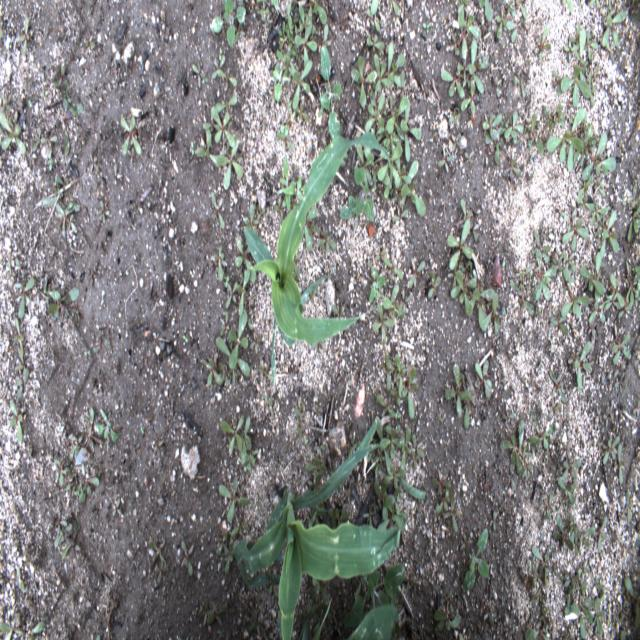crop: (234, 416, 400, 638), (244, 134, 392, 342), (314, 595, 396, 639)
weed: (343, 566, 405, 630), (318, 43, 343, 145), (572, 124, 619, 176), (340, 162, 376, 222), (546, 110, 586, 163), (461, 531, 490, 594), (210, 0, 245, 47), (214, 333, 252, 376), (218, 474, 250, 522), (446, 363, 474, 417), (559, 65, 593, 109), (351, 53, 378, 108), (400, 98, 422, 162), (594, 211, 620, 265), (227, 306, 249, 368), (445, 220, 471, 272), (450, 268, 479, 314), (601, 1, 627, 51), (216, 140, 243, 188), (294, 11, 317, 65), (374, 414, 394, 476), (118, 112, 144, 159), (457, 15, 483, 60), (571, 339, 592, 394), (571, 587, 593, 639), (290, 59, 313, 108), (196, 124, 224, 164), (502, 431, 526, 477), (621, 576, 640, 630), (377, 142, 402, 182), (560, 217, 590, 250), (532, 262, 558, 300), (384, 41, 406, 85), (1, 112, 26, 150), (373, 478, 395, 521), (472, 289, 494, 331), (385, 94, 409, 132), (399, 181, 425, 216), (432, 607, 461, 638), (579, 264, 605, 298), (46, 290, 77, 318), (609, 332, 633, 368), (212, 106, 234, 145), (394, 160, 420, 193), (80, 461, 99, 506), (54, 201, 77, 238), (370, 305, 393, 342), (471, 39, 487, 92), (301, 204, 319, 251), (198, 353, 222, 388), (380, 430, 408, 460), (94, 408, 120, 440), (402, 366, 418, 418), (221, 415, 242, 454), (528, 423, 554, 454), (233, 265, 249, 315), (434, 479, 455, 517), (8, 393, 24, 442), (462, 197, 479, 243), (364, 94, 385, 128), (531, 545, 553, 577), (302, 1, 330, 26), (82, 408, 99, 449), (235, 236, 256, 269), (382, 284, 403, 317), (560, 293, 590, 316), (548, 369, 567, 405), (50, 54, 69, 90), (60, 524, 80, 558), (356, 141, 373, 181), (498, 111, 524, 137), (586, 202, 610, 230), (19, 275, 34, 319), (188, 58, 210, 88), (279, 156, 291, 211), (556, 515, 574, 550), (576, 26, 588, 78), (625, 262, 639, 306), (536, 24, 551, 65), (14, 338, 29, 379), (369, 266, 386, 302), (627, 198, 640, 244), (387, 498, 405, 531), (441, 70, 463, 97), (476, 358, 490, 400), (602, 434, 620, 466), (548, 101, 566, 133), (376, 55, 392, 91), (382, 124, 398, 160), (283, 175, 304, 202), (284, 12, 301, 45), (582, 27, 598, 62), (53, 453, 72, 482), (239, 414, 250, 464), (180, 540, 195, 576), (211, 192, 225, 230), (304, 456, 328, 478), (205, 601, 230, 622), (316, 229, 337, 254), (592, 596, 605, 636), (432, 468, 451, 495), (444, 498, 459, 532), (213, 241, 225, 283), (394, 155, 412, 183), (482, 113, 502, 138), (19, 15, 31, 56), (276, 125, 294, 152), (383, 259, 405, 281), (384, 464, 406, 486), (589, 299, 611, 321), (549, 312, 569, 336), (610, 273, 624, 307), (562, 34, 580, 60), (534, 230, 549, 261), (14, 314, 25, 356), (437, 146, 454, 173), (408, 262, 424, 290), (428, 268, 442, 300), (401, 428, 411, 472), (558, 479, 577, 502), (218, 66, 236, 90), (245, 202, 257, 238), (396, 356, 406, 398), (461, 82, 475, 112), (457, 51, 472, 79), (542, 488, 555, 520), (215, 100, 236, 119), (200, 113, 221, 132), (24, 620, 46, 638), (496, 6, 508, 39), (274, 63, 285, 99), (212, 52, 226, 80), (331, 506, 348, 529), (365, 34, 385, 53), (506, 20, 523, 42), (0, 623, 23, 639), (492, 290, 500, 336), (348, 433, 362, 459), (624, 488, 634, 524), (580, 526, 596, 548), (411, 433, 425, 458), (478, 0, 492, 25), (154, 554, 164, 588), (598, 517, 608, 551), (578, 178, 591, 204), (366, 8, 380, 32), (276, 51, 290, 75), (562, 460, 580, 478), (71, 431, 87, 451), (378, 396, 394, 416), (551, 68, 562, 97), (33, 125, 45, 151), (149, 539, 163, 561), (219, 360, 230, 388), (226, 282, 237, 310), (230, 519, 249, 535), (577, 559, 590, 582), (216, 530, 227, 557), (514, 0, 528, 21), (258, 0, 270, 24), (56, 510, 67, 536), (398, 288, 412, 308), (506, 159, 520, 179), (244, 449, 257, 470), (618, 442, 624, 487), (561, 253, 575, 272), (314, 435, 326, 457), (493, 136, 502, 165), (513, 75, 526, 95), (294, 102, 308, 120), (564, 571, 578, 589), (532, 562, 542, 587), (279, 20, 287, 50), (385, 350, 391, 390), (371, 454, 383, 473), (220, 312, 231, 332), (322, 22, 330, 49), (391, 208, 409, 220), (448, 109, 462, 124), (483, 610, 494, 628), (569, 515, 579, 534), (590, 67, 600, 86), (18, 561, 24, 592), (561, 0, 574, 14), (523, 627, 538, 639), (560, 440, 570, 458), (568, 141, 574, 171), (451, 132, 461, 150), (388, 0, 399, 16), (374, 247, 386, 260), (371, 0, 379, 17), (458, 1, 470, 12), (542, 623, 550, 639), (47, 152, 54, 170), (501, 413, 516, 421), (588, 0, 600, 9), (465, 151, 473, 163), (271, 0, 278, 10), (424, 20, 429, 33), (620, 629, 626, 639), (436, 412, 442, 422), (224, 276, 228, 289), (95, 632, 102, 639)
